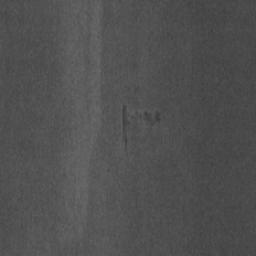Rolled pit: (122, 105, 161, 147)
